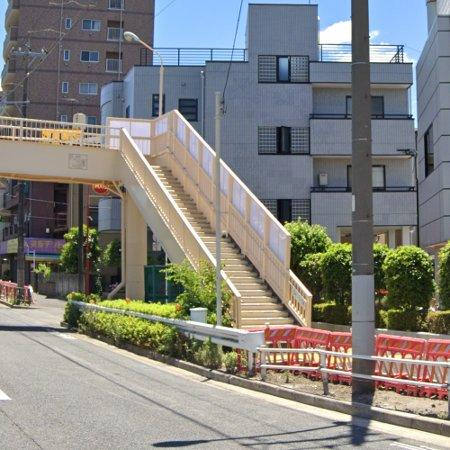stairs: (222, 238, 297, 329), (153, 165, 216, 256)
